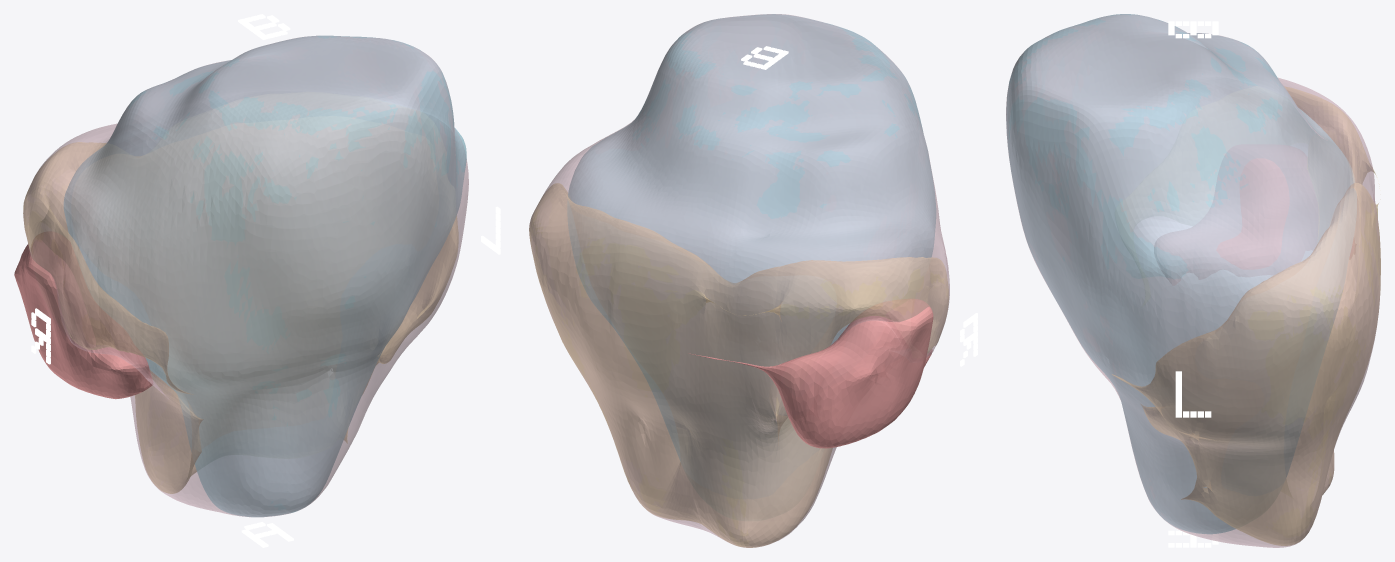
3 views of the same model, side by side, from view 1: azimuth 30°, elevation 25°; view 2: azimuth 150°, elevation 25°; view 3: azimuth 270°, elevation 25° (orthographic). The views are drawn at different scales.
Parts seen in each view (by area): view 1: prostate_gland, transition_zone, peripheral_zone, lesion_01, pv_ar_marker_B, pv_ar_marker_R; view 2: prostate_gland, peripheral_zone, transition_zone, lesion_01, pv_ar_marker_B; view 3: prostate_gland, transition_zone, peripheral_zone, lesion_01, pv_ar_marker_B, pv_ar_marker_L, pv_ar_marker_A.
Part boxes in pixels (x1=…): prostate_gland: x1=23, y1=35, x2=468, y2=517; transition_zone: x1=64, y1=35, x2=466, y2=516; peripheral_zone: x1=23, y1=142, x2=458, y2=493; lesion_01: x1=14, y1=232, x2=152, y2=399; pv_ar_marker_B: x1=238, y1=14, x2=290, y2=39; pv_ar_marker_R: x1=31, y1=308, x2=50, y2=364; prostate_gland: x1=529, y1=14, x2=949, y2=547; peripheral_zone: x1=529, y1=183, x2=948, y2=547; transition_zone: x1=567, y1=14, x2=936, y2=462; lesion_01: x1=688, y1=299, x2=933, y2=448; pv_ar_marker_B: x1=741, y1=46, x2=788, y2=69; prostate_gland: x1=1006, y1=14, x2=1380, y2=547; transition_zone: x1=1006, y1=14, x2=1356, y2=533; peripheral_zone: x1=1112, y1=86, x2=1380, y2=545; lesion_01: x1=1154, y1=145, x2=1355, y2=284; pv_ar_marker_B: x1=1168, y1=21, x2=1218, y2=38; pv_ar_marker_L: x1=1175, y1=371, x2=1211, y2=417; pv_ar_marker_A: x1=1168, y1=530, x2=1218, y2=547.
Size of the model in its own units: 0.0397 by 0.0428 by 0.0285.
